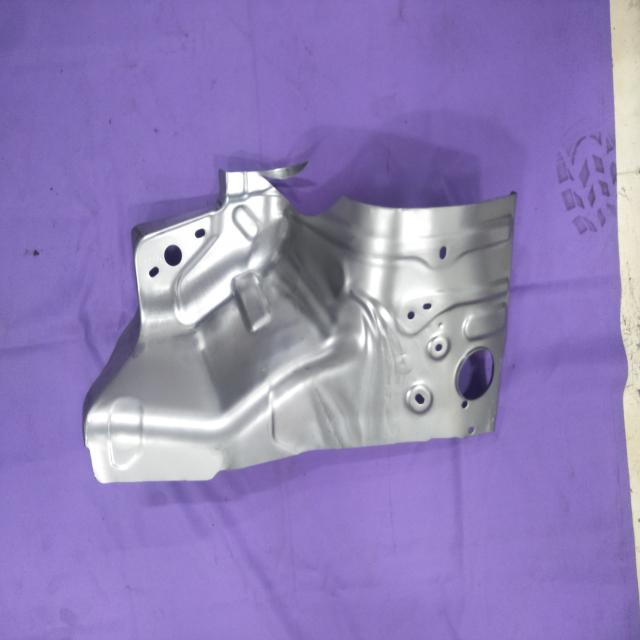Defect: (255, 166, 349, 222)
